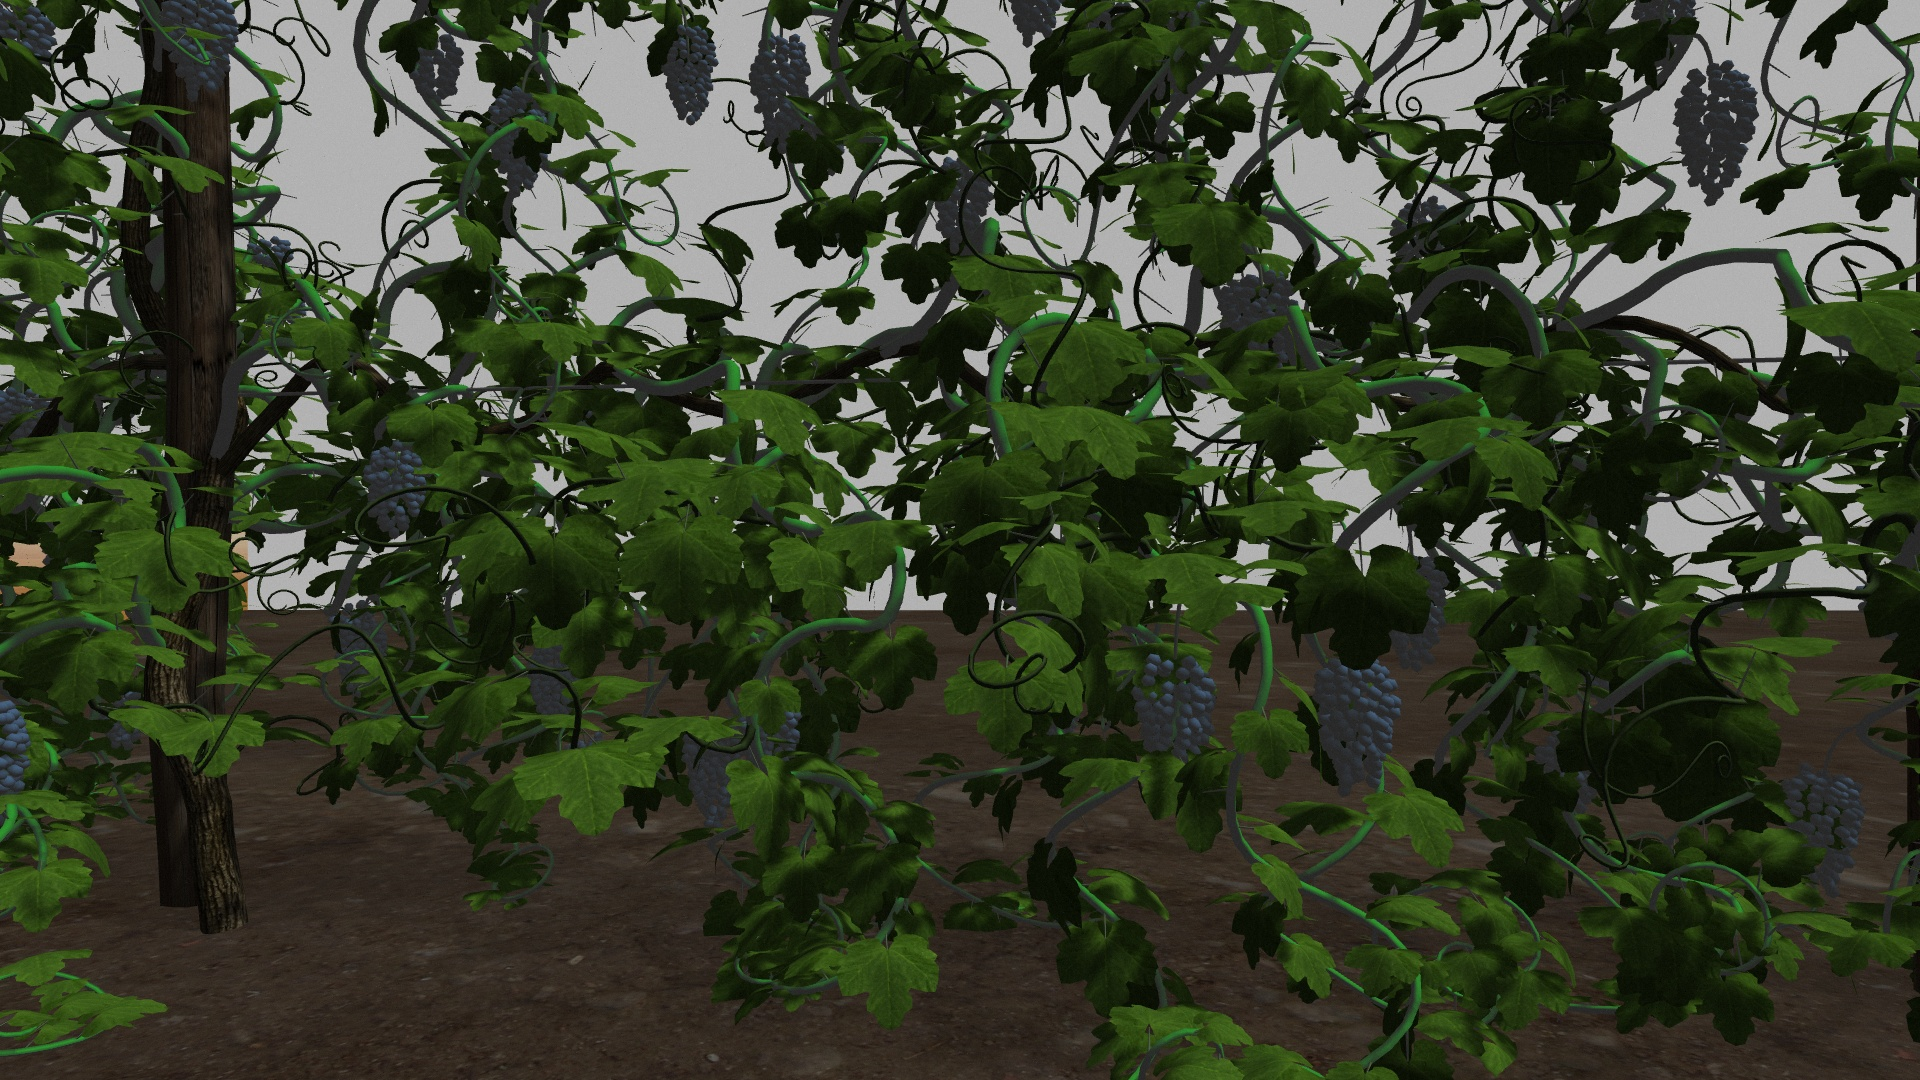grape: (1672, 61, 1760, 204), (1312, 658, 1402, 799), (1789, 770, 1866, 903), (1134, 654, 1218, 765), (748, 34, 814, 154), (160, 3, 237, 96), (488, 86, 553, 196), (680, 727, 746, 831), (361, 439, 427, 543), (1218, 274, 1295, 361), (934, 154, 990, 256), (665, 24, 719, 125), (527, 642, 578, 720), (413, 33, 464, 102)
